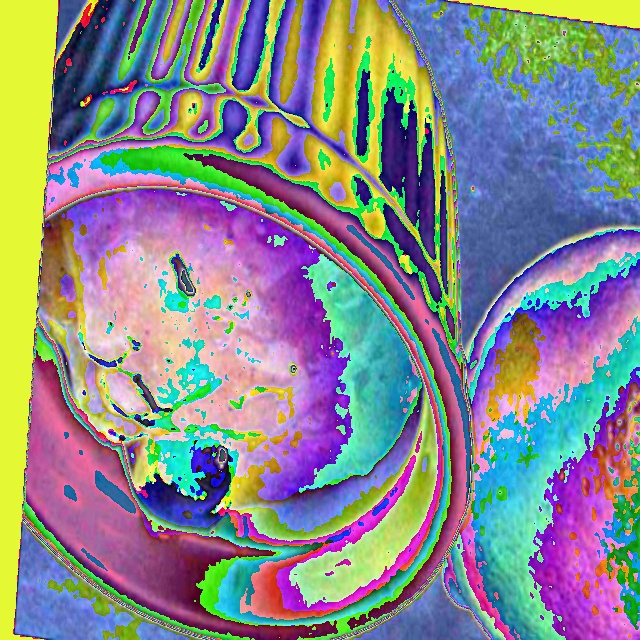background: (200, 225, 639, 639), (38, 190, 423, 536)
